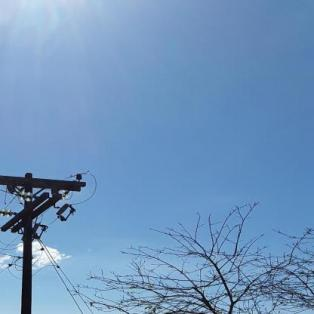Poste: (6, 170, 42, 314)
